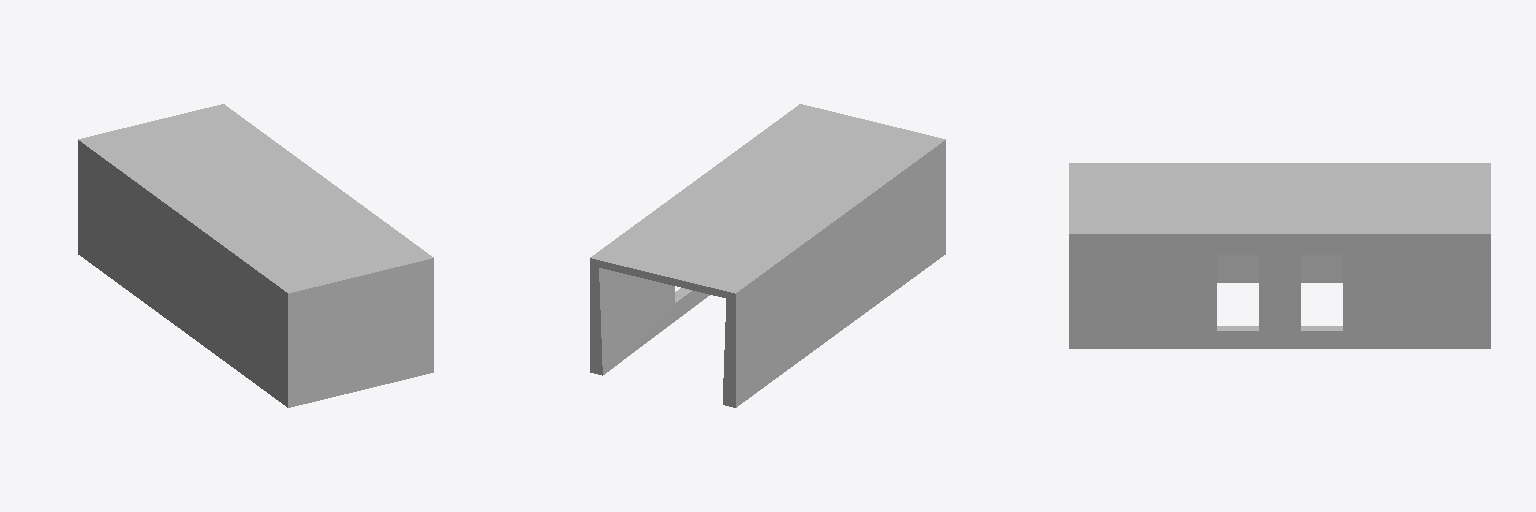
File: house.obj
The picture shows the model from 3 angles: view 1: azimuth 30°, elevation 25°; view 2: azimuth 150°, elevation 25°; view 3: azimuth 270°, elevation 25°; orthographic projection.
Visible parts, largest first — view 1: Room_wall; view 2: Room_wall; view 3: Room_wall.
Part boxes in pixels (bbox=[...]): Room_wall: bbox=[78, 104, 433, 407]; Room_wall: bbox=[590, 104, 945, 407]; Room_wall: bbox=[1069, 163, 1490, 348].
Size of the model in its own units: 8 by 6 by 20.